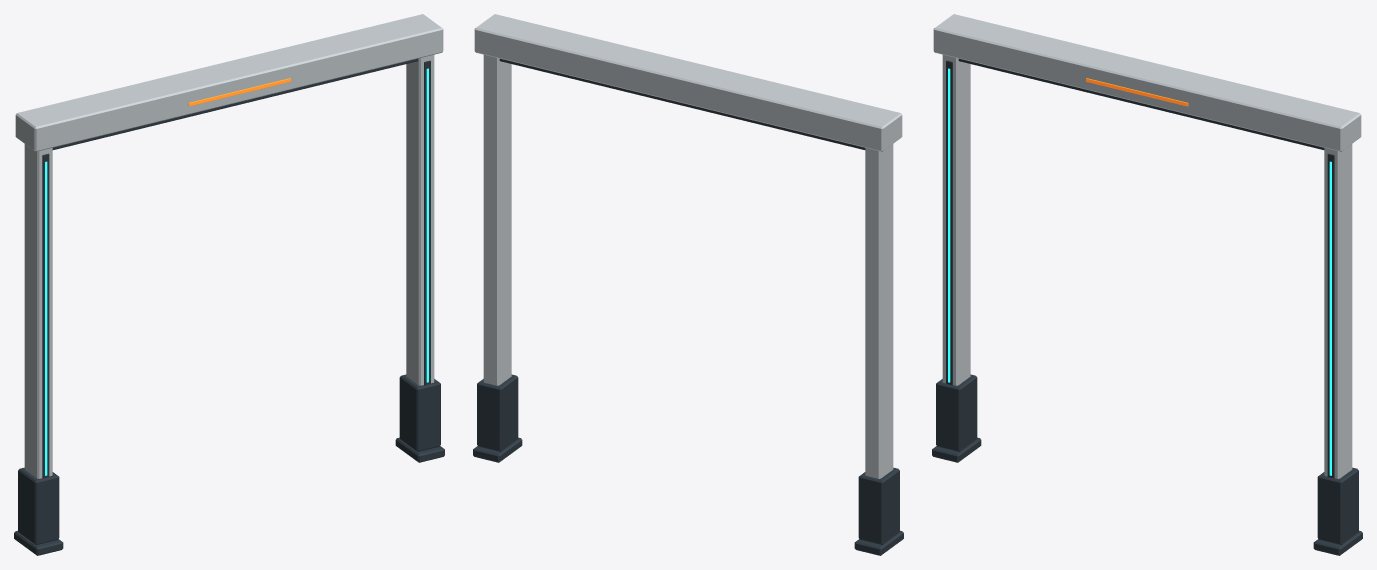
The model's file is SM_TS_Gantry.fbx.
3 renders of one model, left to right at view 1: azimuth 30°, elevation 25°; view 2: azimuth 150°, elevation 25°; view 3: azimuth 330°, elevation 25°, orthographic.
Visible parts, largest first — view 1: SM_TS_Gantry; view 2: SM_TS_Gantry; view 3: SM_TS_Gantry.
Boxes of the visible parts, x1,y1,x2,y2 form: SM_TS_Gantry: (14,14,444,555); SM_TS_Gantry: (473,14,903,555); SM_TS_Gantry: (932,14,1362,555).
Bounding box in the file's own units: 600 × 60 × 600.
